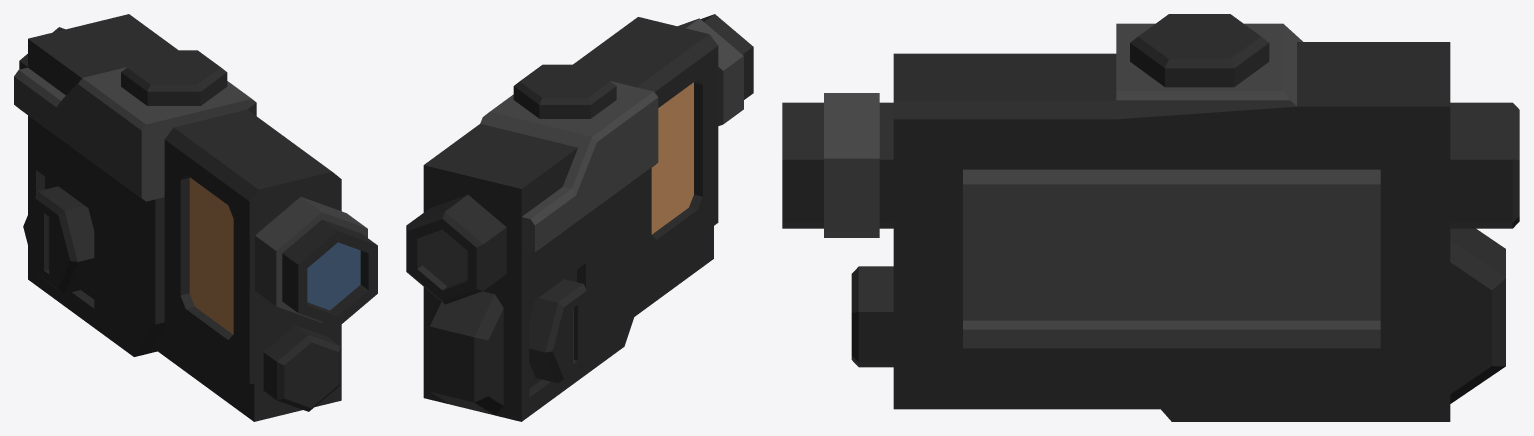
File: Laser_B_Right.fbx
The picture shows the model from 3 angles, left to right: view 1: azimuth 30°, elevation 25°; view 2: azimuth 150°, elevation 25°; view 3: azimuth 270°, elevation 25°; orthographic projection. The views are drawn at different scales.
Visible parts, largest first — view 1: Laser_B_Right; view 2: Laser_B_Right; view 3: Laser_B_Right.
Boxes of the visible parts, x1,y1,x2,y2 form: Laser_B_Right: (14, 14, 377, 421); Laser_B_Right: (406, 14, 753, 421); Laser_B_Right: (782, 14, 1519, 421).
Size of the model in its own units: 0.0387 by 0.07 by 0.1325.
